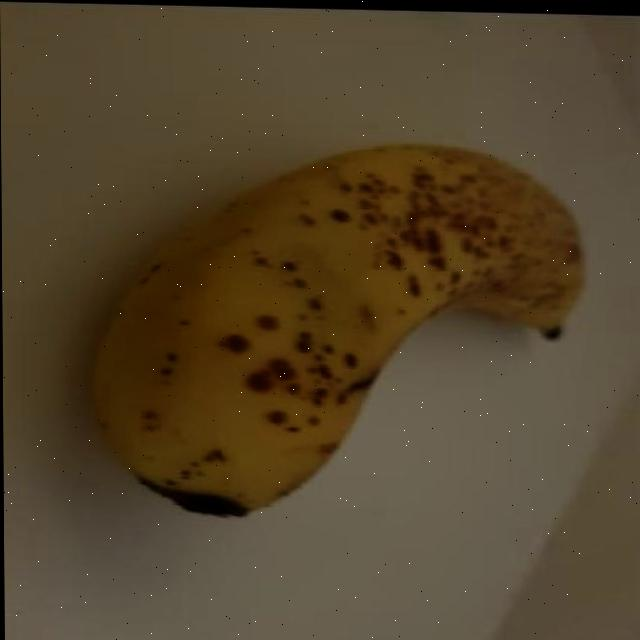banana: (81, 135, 592, 529)
